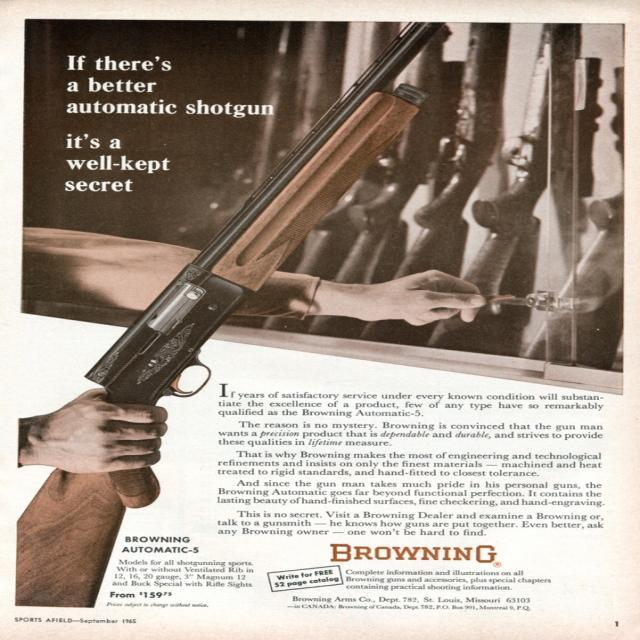weapon: (7, 20, 442, 604), (212, 18, 622, 368)
